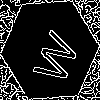W: (25, 25, 81, 88)
